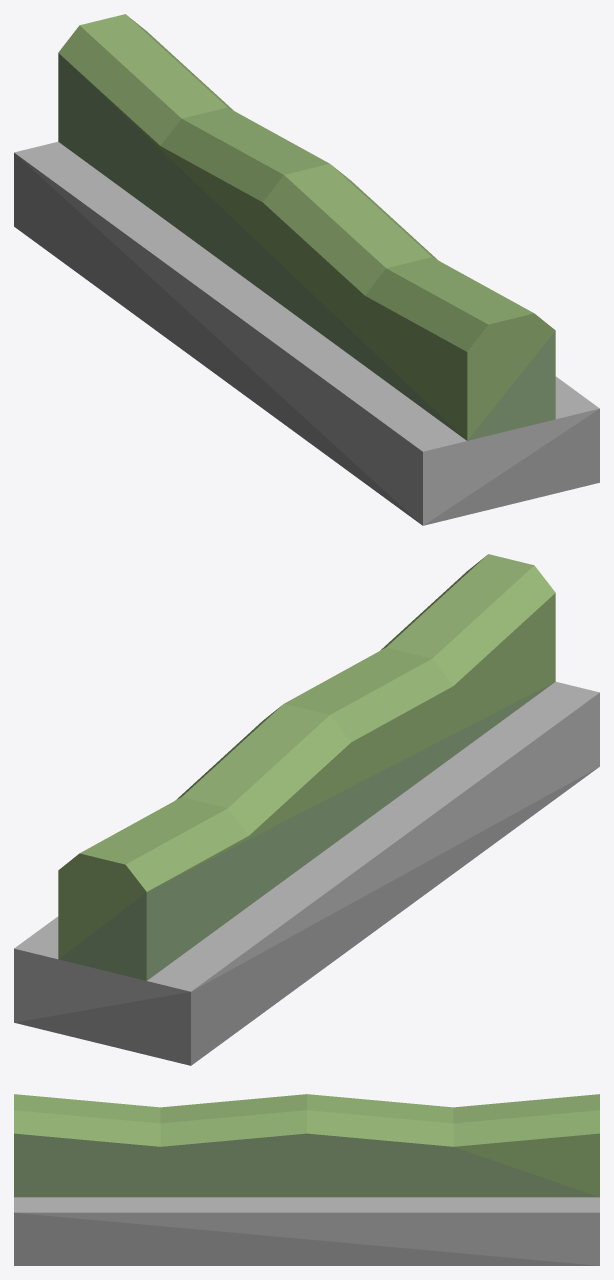
3 renders of one model, top to bottom at view 1: azimuth 30°, elevation 25°; view 2: azimuth 150°, elevation 25°; view 3: azimuth 270°, elevation 25°, orthographic. The views are drawn at different scales.
Visible parts, largest first — view 1: model; view 2: model; view 3: model.
Part boxes in pixels (box(x1,y1,x2,y2)): model: box(14, 14, 599, 525); model: box(14, 554, 599, 1065); model: box(14, 1094, 599, 1265).
Bounding box in the file's own units: 0.5 × 0.5 × 2.
